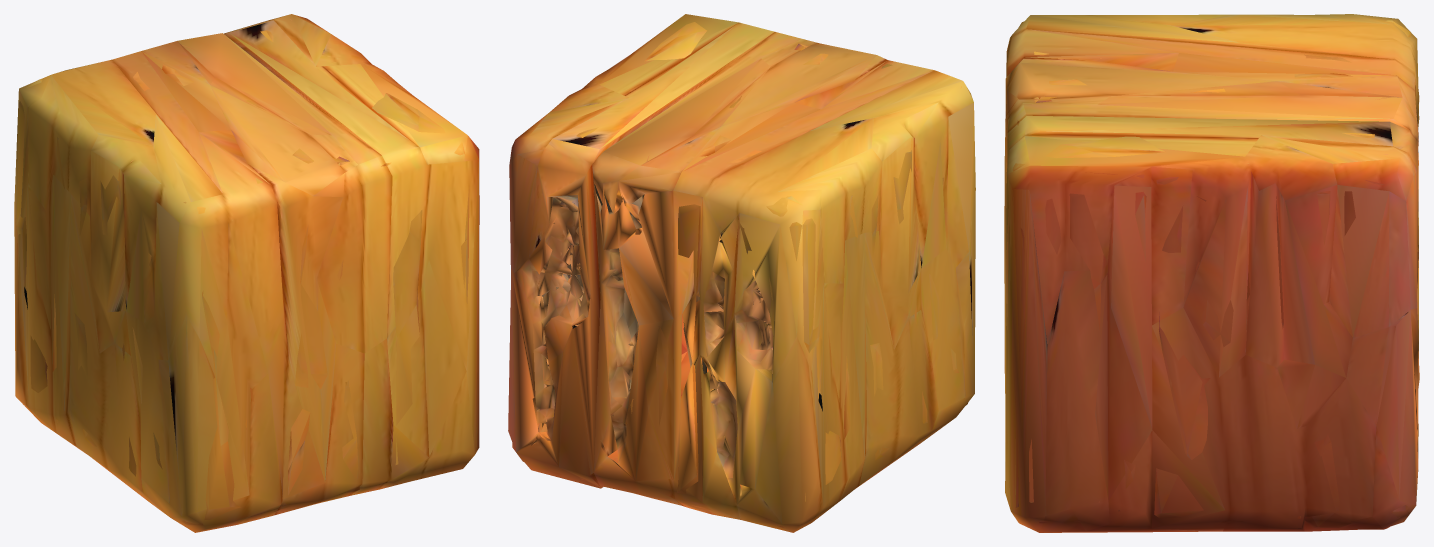
The model's file is ahsap_kup_2.glb.
3 views of the same model, side by side, from view 1: azimuth 30°, elevation 25°; view 2: azimuth 150°, elevation 25°; view 3: azimuth 270°, elevation 25° (orthographic). The views are drawn at different scales.
Visible parts, largest first — view 1: tripo_node_0109596a-2955-4882-a872-2ee54a883a45; view 2: tripo_node_0109596a-2955-4882-a872-2ee54a883a45; view 3: tripo_node_0109596a-2955-4882-a872-2ee54a883a45.
Part boxes in pixels (bbox=[...]): tripo_node_0109596a-2955-4882-a872-2ee54a883a45: bbox=[14, 14, 479, 532]; tripo_node_0109596a-2955-4882-a872-2ee54a883a45: bbox=[508, 14, 975, 532]; tripo_node_0109596a-2955-4882-a872-2ee54a883a45: bbox=[1004, 14, 1419, 532].
Bounding box in the file's own units: 0.9196 × 0.9771 × 0.9758.
Materials: 1 (1 with a texture image).
